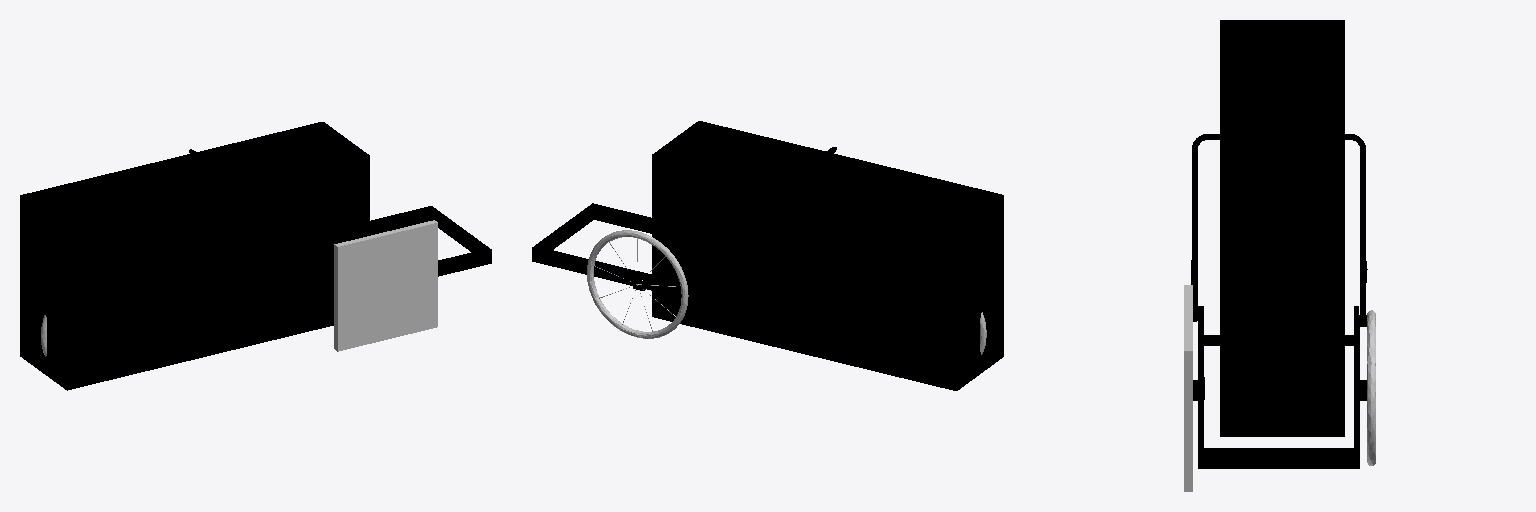
URDF robot description (rickshaw):
<robot name="rickshaw">
  <material name="grey">
    <color rgba="0.8 0.8 0.8 1"/>
  </material>
  <material name="white">
    <color rgba="1 1 1 1 "/>
  </material>
  <material name="black">
    <color rgba="0 0 0 1 "/>
  </material>

  <!-- Base link -->
  <link name="base_link">
    <inertial>
      <mass value="21.81947805717533"/>
      <origin rpy="0  0  0" xyz="0  0  0"/>
      <inertia ixx="5.886482099704385" ixy="0.05246604407007407"
               ixz="-0.14605334861846847" iyy="9.145464405182723"
               iyz="2.3093169469685275" izz="3.8627096944427937"/>
    </inertial>
    <collision name="bike_collision">
      <origin rpy="0  0  0" xyz="0  0  0"/>
      <geometry>
        <mesh
            filename="package://roboy_models/rickshaw/meshes/collisions/bike.stl"
            scale="0.001 0.001 0.001"/>
      </geometry>
    </collision>
    <visual name="bike_visual">
      <origin rpy="0  0  0" xyz="0  0  0"/>
      <geometry>
        <mesh filename="package://roboy_models/rickshaw/meshes/visuals/bike.stl"
              scale="0.001 0.001 0.001"/>
      </geometry>
      <material name="black"/>
    </visual>
  </link>

  <link name="left_wheel">
    <inertial>
      <mass value="13.34016392909787"/>
      <origin rpy="0  0  0" xyz="0     0.046  0"/>
      <inertia ixx="2.171169531427472" ixy="-4.661713033463371"
               ixz="-0.21322209220250452" iyy="14.34232616188963"
               iyz="-0.608246286975269" izz="15.441547158388817"/>

    </inertial>
    <collision name="left_wheel_collision">
      <origin rpy="0 0 0" xyz="0    0.046  0"/>
      <geometry>
        <mesh
            filename="package://roboy_models/rickshaw/meshes/visuals/left_wheel.stl"
            scale="0.001 0.001 0.001"/>
      </geometry>
    </collision>
    <visual name="left_wheel_visual">
      <origin rpy="0 0 0" xyz="0 0.046  0"/>
      <geometry>
        <mesh
            filename="package://roboy_models/rickshaw/meshes/visuals/left_wheel.stl"
            scale="0.001 0.001 0.001"/>
      </geometry>
      <material name="grey"/>
    </visual>
  </link>
  <joint name="joint_wheel_left" type="continuous">
    <parent link="front_part"/>
    <child link="left_wheel"/>
    <origin rpy="0  0  0" xyz="0.052   0.304   0.0345"/>
    <axis xyz="0 1  0"/>
    <limit effort="1000.0" velocity="10.0"/>
  </joint>
  <transmission name="trans_wheel_left">
    <type>transmission_interface/SimpleTransmission</type>
    <actuator name="$left_wheel_motor">
      <mechanicalReduction>1</mechanicalReduction>
    </actuator>
    <joint name="joint_wheel_left">
      <hardwareInterface>hardware_interface/VelocityJointInterface
      </hardwareInterface>
    </joint>
  </transmission>
  <gazebo reference="left_wheel">
    <mu1 value="20.0"/>
    <mu2 value="10.0"/>
    <kp value="10000000.0"/>
    <kd value="1.0"/>
    <material>Gazebo/Grey</material>
  </gazebo>

  <link name="right_wheel">
    <inertial>
      <mass value="13.34016392909787"/>
      <origin rpy="0  0  0" xyz="0    -0.004  0"/>
      <inertia ixx="2.097317024732184" ixy="4.55515786054409"
               ixz="0.2083483651538148" iyy="14.342326161889634"
               iyz="-0.6082462869756708" izz="15.367694651693467"/>
    </inertial>
    <collision name="right_wheel_collision">
      <origin rpy="0 0 0" xyz="0    -0.004 0"/>
      <geometry>
        <mesh
            filename="package://roboy_models/rickshaw/meshes/visuals/right_wheel.stl"
            scale="0.001 0.001 0.001"/>
      </geometry>
    </collision>
    <visual name="right_wheel_visual">
      <origin rpy="0 0 0" xyz="0    -0.004 0"/>
      <geometry>
        <mesh
            filename="package://roboy_models/rickshaw/meshes/visuals/right_wheel.stl"
            scale="0.001 0.001 0.001"/>
      </geometry>
      <material name="grey"/>
    </visual>
  </link>
  <joint name="joint_wheel_right" type="continuous">
    <parent link="front_part"/>
    <child link="right_wheel"/>
    <origin rpy="0  0  0" xyz="0.052  -0.338   0.0345"/>
    <axis xyz="0 1 0"/>
    <limit effort="1000.0" velocity="10.0"/>
  </joint>
  <transmission name="trans_wheel_right">
    <type>transmission_interface/SimpleTransmission</type>
    <actuator name="$right_wheel_motor">
      <mechanicalReduction>1</mechanicalReduction>
    </actuator>
    <joint name="joint_wheel_right">
      <hardwareInterface>hardware_interface/VelocityJointInterface
      </hardwareInterface>
    </joint>
  </transmission>
  <gazebo reference="right_wheel">
    <mu1 value="20.0"/>
    <mu2 value="10.0"/>
    <kp value="10000000.0"/>
    <kd value="1.0"/>
    <material>Gazebo/Grey</material>
  </gazebo>

  <link name="front_part">
    <inertial>
      <mass value="16.810672465638184"/>
      <origin rpy="0  0  0" xyz="-0.23003 -0.01038  0.20527"/>
      <inertia ixx="3.2092296528945967" ixy="0.18113615628275678"
               ixz="0.006723073533121614" iyy="14.66296026711583"
               iyz="-1.241970673631743" izz="13.91291969418297"/>
    </inertial>
    <collision name="front_part_collision">
      <origin rpy="0  0  0" xyz="-0.23003 -0.01038  0.20527"/>
      <geometry>
        <mesh
            filename="package://roboy_models/rickshaw/meshes/collisions/front_part.stl"
            scale="0.001 0.001 0.001"/>
      </geometry>
    </collision>
    <visual name="front_part_visual">
      <origin rpy="0 0 0" xyz="-0.23003 -0.01038 0.20527"/>
      <geometry>
        <mesh
            filename="package://roboy_models/rickshaw/meshes/visuals/front_part.stl"
            scale="0.001 0.001 0.001"/>
      </geometry>
      <material name="black"/>
    </visual>
  </link>
  <joint name="joint_front" type="revolute">
    <parent link="base_link"/>
    <child link="front_part"/>
    <origin rpy="0  0  0" xyz="0.94642  0       0.01116"/>
    <axis xyz="0 0 1"/>
    <limit effort="1000" lower="-0.78" upper="0.78"
           velocity=".5"/>
  </joint>
  <transmission name="trans_front">
    <type>transmission_interface/SimpleTransmission</type>
    <actuator name="$front_motor">
      <mechanicalReduction>1</mechanicalReduction>
    </actuator>
    <joint name="joint_front">
      <hardwareInterface>hardware_interface/VelocityJointInterface
      </hardwareInterface>
    </joint>
  </transmission>

  <link name="wheel_back">
    <inertial>
      <mass value="13.340163929098493"/>
      <origin rpy="0  0  0" xyz="0    -0.069  0"/>
      <inertia ixx="0.5419188938328757" ixy="-0.025425846119324413"
               ixz="0.0023401868697195947" iyy="4.894303401629517"
               iyz="0.35393127318782075" izz="4.354763468464214"/>
    </inertial>
    <collision name="wheel_back_collision">
      <origin rpy="0 0 0" xyz="0    -0.069 0"/>
      <geometry>
        <mesh
            filename="package://roboy_models/rickshaw/meshes/visuals/wheel_back.stl"
            scale="0.001 0.001 0.001"/>
      </geometry>
    </collision>
    <visual name="wheel_back_visual">
      <origin rpy="0 0 0" xyz="0    -0.069 0"/>
      <geometry>
        <mesh
            filename="package://roboy_models/rickshaw/meshes/visuals/wheel_back.stl"
            scale="0.001 0.001 0.001"/>
      </geometry>
      <material name="grey"/>
    </visual>
  </link>
  <joint name="joint_wheel_back" type="continuous">
    <parent link="base_link"/>
    <child link="wheel_back"/>
    <origin rpy="0  0  0" xyz="-0.53689  0.06544  0.04941"/>
    <axis xyz="0 1  0"/>
    <limit effort="1000.0" velocity="10.0"/>
  </joint>
  <transmission name="trans_wheel_back">
    <type>transmission_interface/SimpleTransmission</type>
    <actuator name="back_wheel_motor">
      <mechanicalReduction>1</mechanicalReduction>
    </actuator>
    <joint name="joint_wheel_back">
      <hardwareInterface>hardware_interface/VelocityJointInterface
      </hardwareInterface>
    </joint>
  </transmission>
  <gazebo reference="wheel_back">
    <mu1 value="20.0"/>
    <mu2 value="10.0"/>
    <kp value="10000000.0"/>
    <kd value="1.0"/>
    <material>Gazebo/Grey</material>
  </gazebo>
  <gazebo>
    <plugin name="gazebo_ros_control" filename="libgazebo_ros_control.so">
      <robotNamespace>/</robotNamespace>
      <legacyModeNS>true</legacyModeNS>
    </plugin>
  </gazebo>
</robot>

--- Facts derived from the render (not from the file) ---
The picture shows the robot from 3 angles, left to right: view 1: azimuth 30°, elevation 25°; view 2: azimuth 150°, elevation 25°; view 3: azimuth 270°, elevation 25°; orthographic projection.
Robot: rickshaw — 5 links, 4 joints (1 revolute, 3 continuous); root link base_link; default pose: every joint at zero.
Links seen in each view (by area): view 1: base_link, right_wheel, front_part; view 2: base_link, front_part, left_wheel; view 3: base_link, front_part, right_wheel, left_wheel.
Boxes of the visible links, <box> form: base_link: <box>20,122,369,390</box>; right_wheel: <box>334,220,437,351</box>; front_part: <box>189,149,491,320</box>; base_link: <box>652,121,1003,390</box>; front_part: <box>532,147,836,319</box>; left_wheel: <box>587,230,688,338</box>; base_link: <box>1220,20,1344,436</box>; front_part: <box>1191,133,1367,468</box>; right_wheel: <box>1184,285,1192,491</box>; left_wheel: <box>1367,310,1375,465</box>.
Bounding box of the posed robot: 2.47 × 0.7277 × 0.9902 m (x, y, z).
5 mesh visuals loaded from 5 distinct referenced files (5 binary STL).